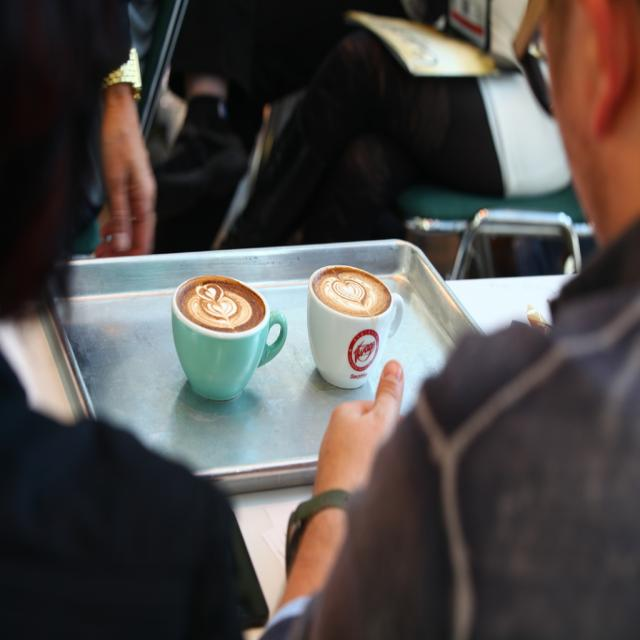Coffee: (172, 276, 270, 341), (309, 263, 393, 321)
